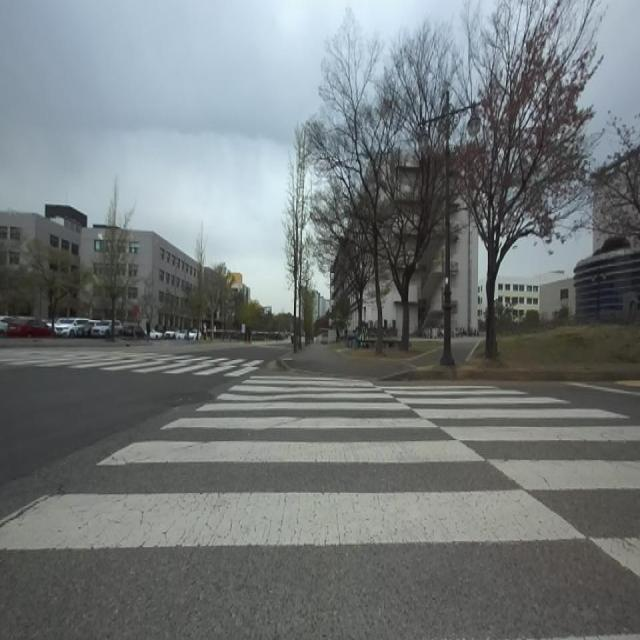sidewalk: (279, 342, 378, 377)
